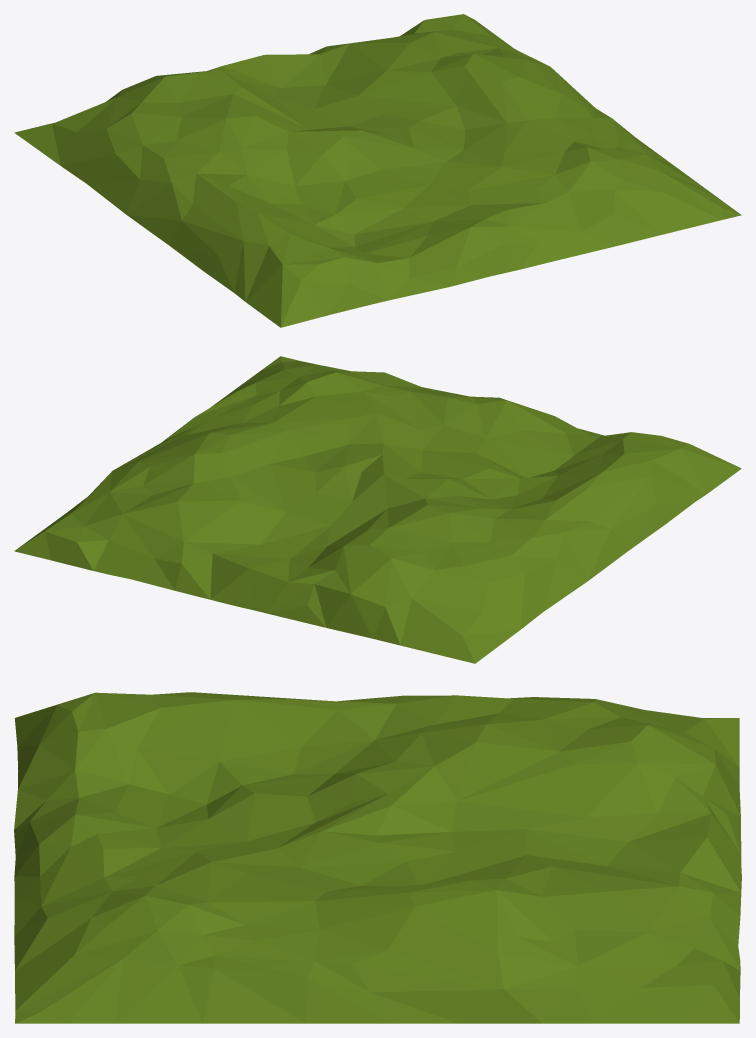
Rendered from Ground_A_03.fbx.
3 renders of one model, top to bottom at view 1: azimuth 30°, elevation 25°; view 2: azimuth 150°, elevation 25°; view 3: azimuth 270°, elevation 25°, orthographic. The views are drawn at different scales.
Visible parts, largest first — view 1: Ground_A_03; view 2: Ground_A_03; view 3: Ground_A_03.
Part boxes in pixels (x1=…): Ground_A_03: x1=14, y1=14, x2=741, y2=327; Ground_A_03: x1=14, y1=356, x2=741, y2=663; Ground_A_03: x1=14, y1=692, x2=741, y2=1023.
Bounding box in the file's own units: 19.96 × 2.23 × 20.08.
